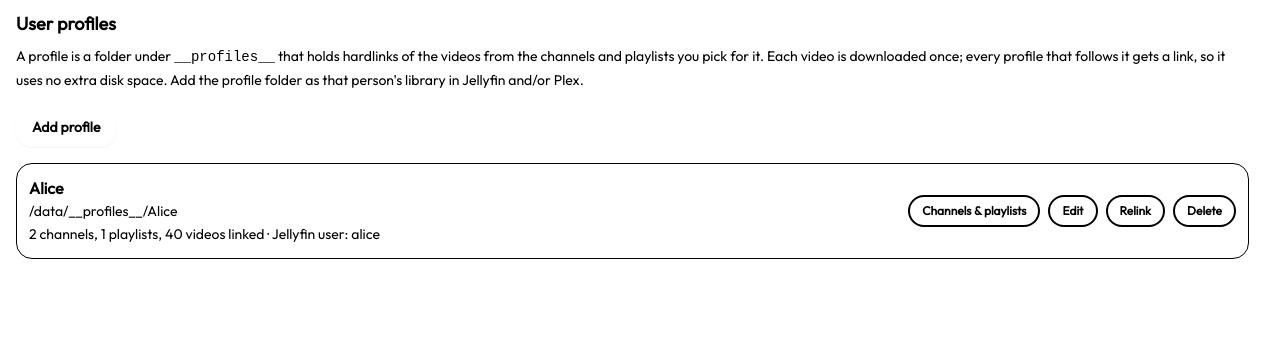
it: ProfilesSection › Relink reports the link counts
Click the button "Relink" at [1135, 211], box [1106,195,1165,227]
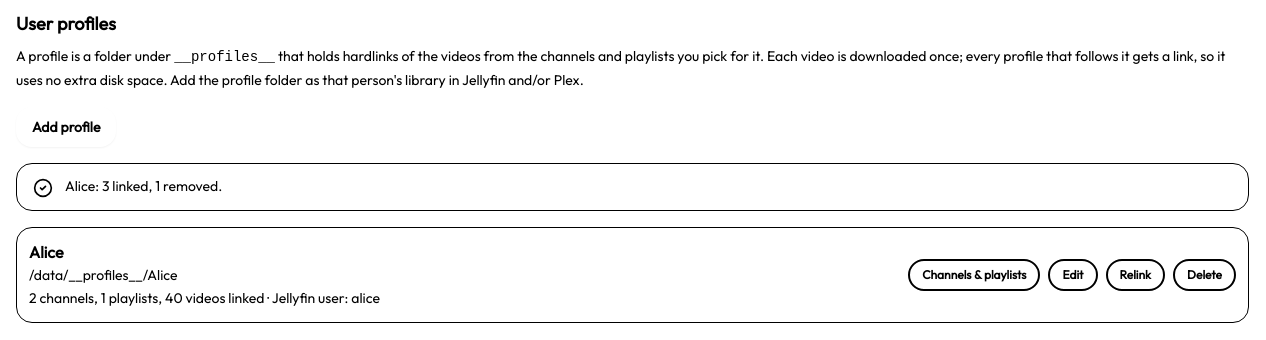
Check: the text "Alice: 3 linked, 1 removed." is shown, box [65,177,222,195]
